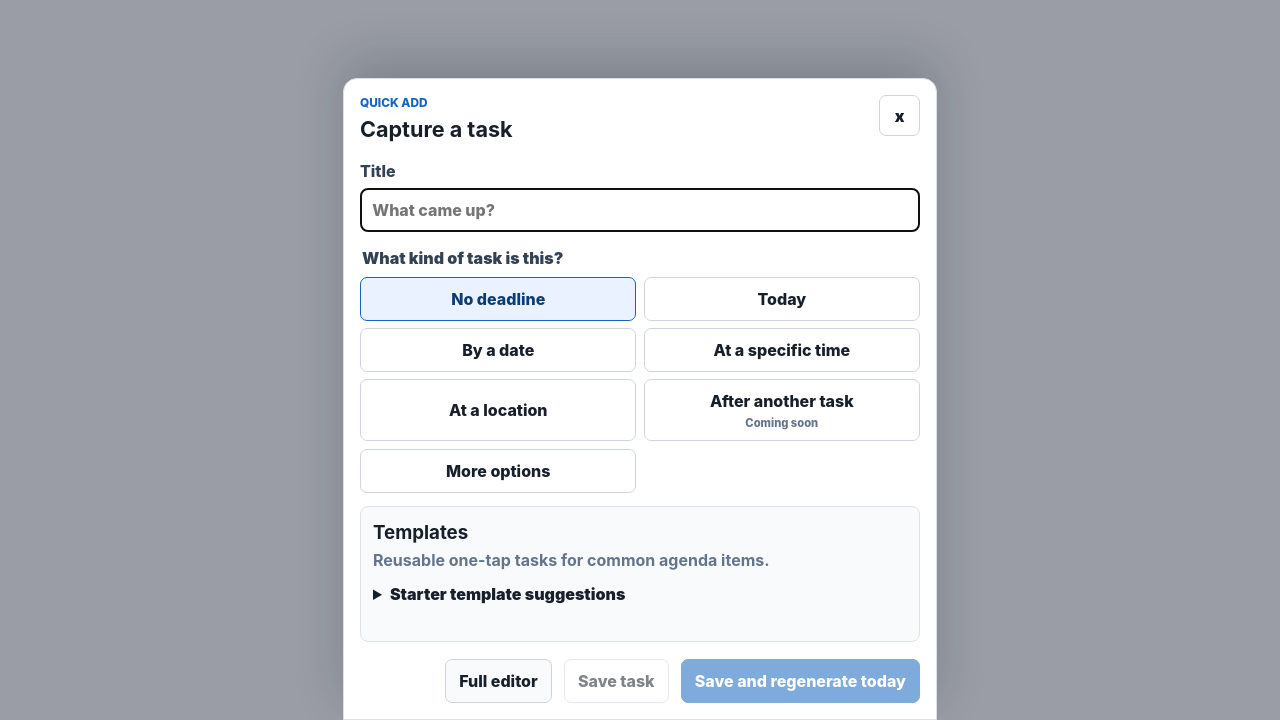
Test: QuickAddTaskSheet › fallback message appears when regeneration is unavailable
Type "Errand" into the field labelled "Title". click: [640, 210]
box: [360, 188, 920, 232]
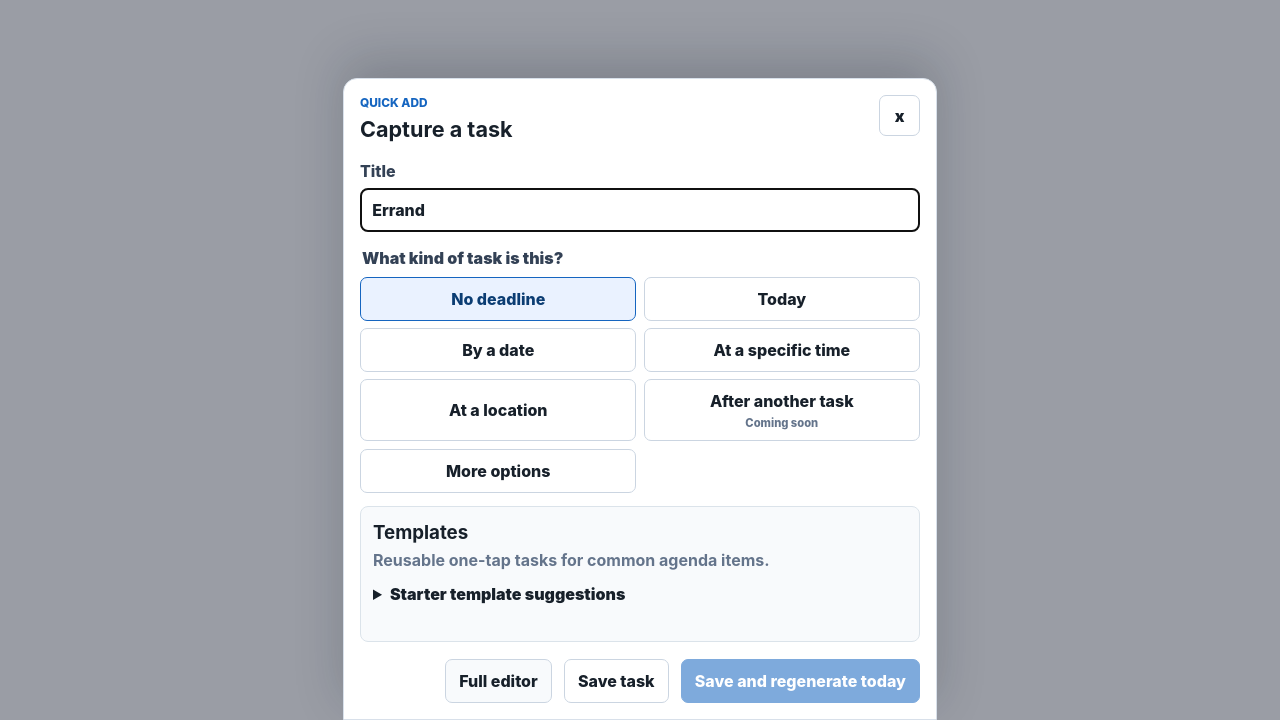
Click the button "Today". click: [782, 299]
box: [644, 277, 920, 321]
(page scrolled)
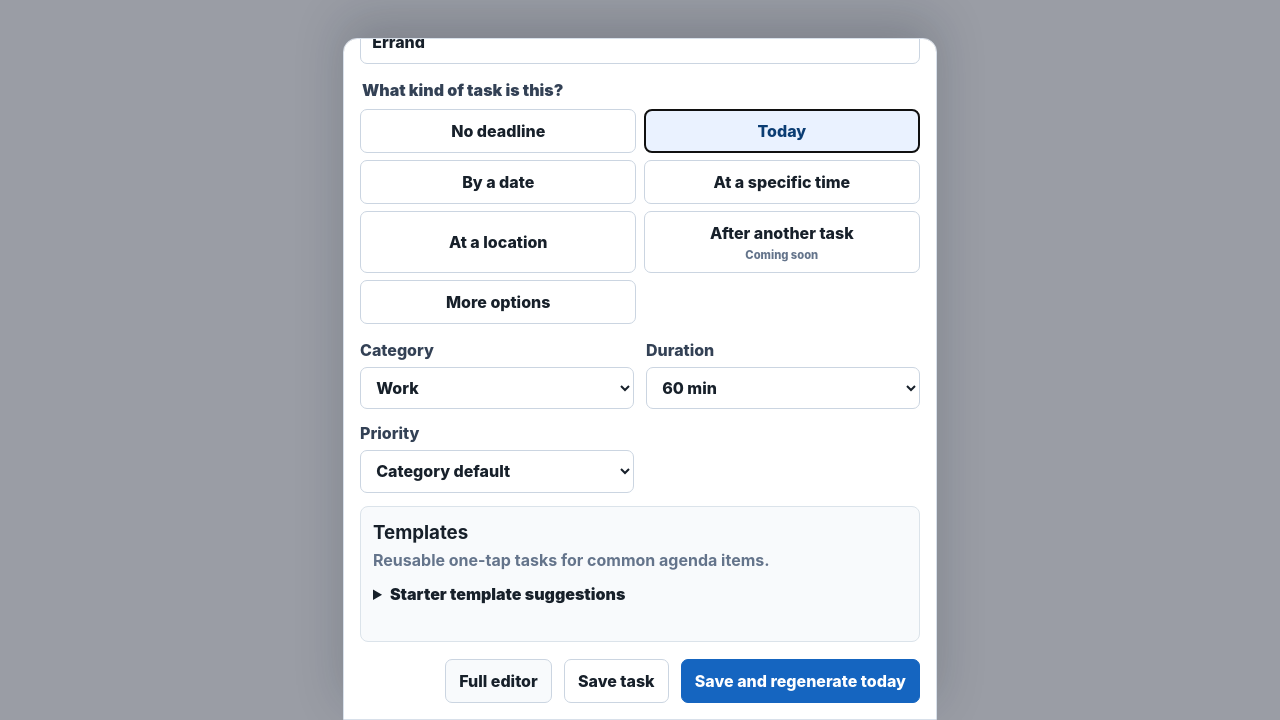
Click the button "Save and regenerate today". click: [800, 681]
box: [681, 660, 920, 703]
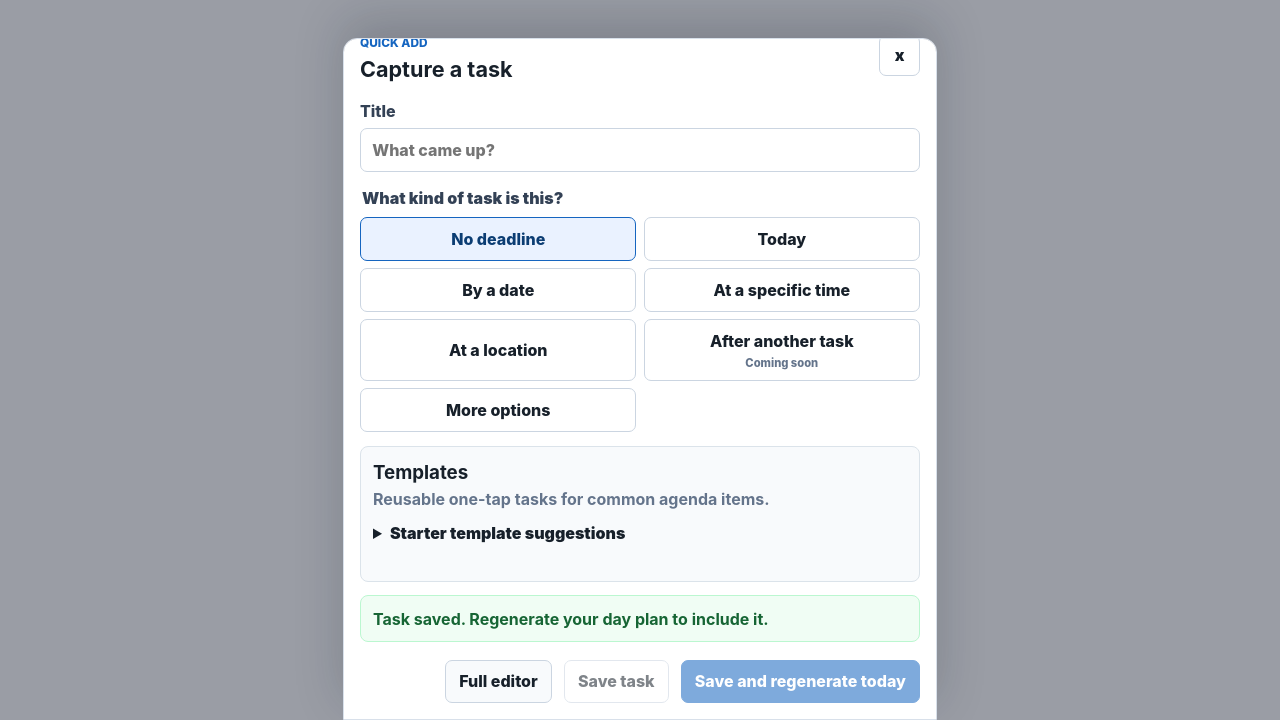
Expected: the text "Task saved. Regenerate your day plan to include it." is shown, [360, 595, 920, 642]
